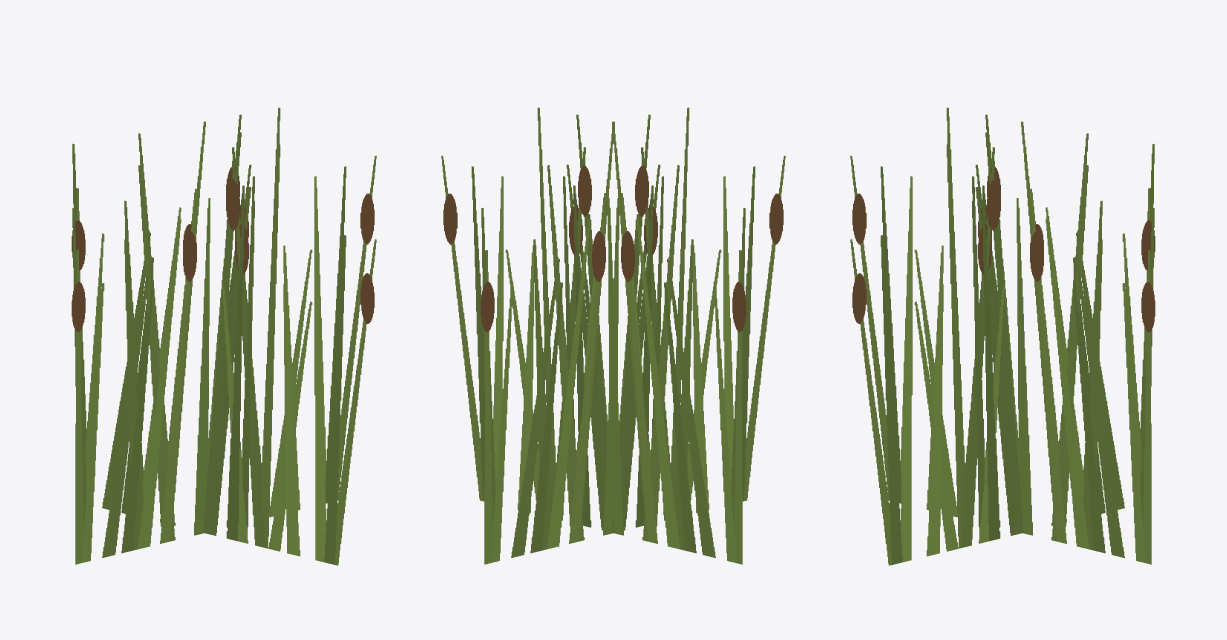
Rendered from Reeds.glb.
3 views of the same model, side by side, from view 1: azimuth 30°, elevation 25°; view 2: azimuth 150°, elevation 25°; view 3: azimuth 270°, elevation 25° (orthographic).
Parts seen in each view (by area): view 1: Reeds; view 2: Reeds; view 3: Reeds.
Boxes of the visible parts, box(x1,y1,x2,y2) form: Reeds: box(71, 107, 376, 565); Reeds: box(441, 107, 785, 564); Reeds: box(850, 107, 1155, 565).
Bounding box in the file's own units: 1.4 × 1.5 × 1.21.
Materials: 1 (1 with a texture image).
